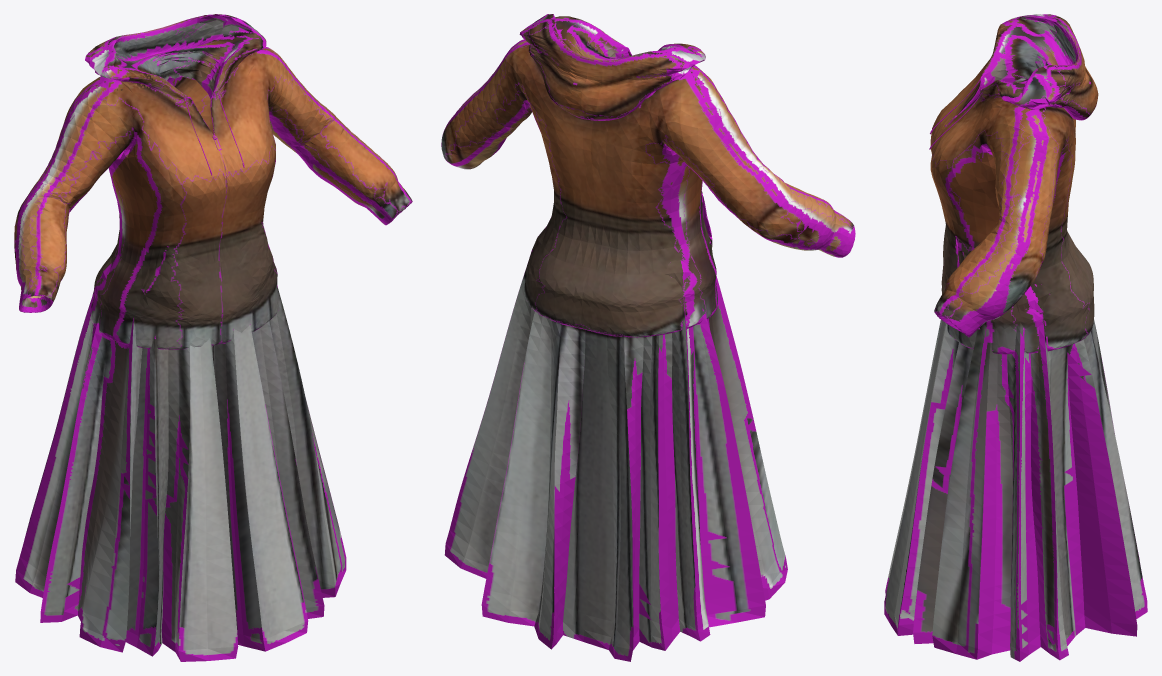
3 renders of one model, left to right at view 1: azimuth 30°, elevation 25°; view 2: azimuth 150°, elevation 25°; view 3: azimuth 270°, elevation 25°, orthographic. The views are drawn at different scales.
Bounding box in the file's own units: 0.5765 × 0.8174 × 0.3368.
Materials: 1 (1 with a texture image).
